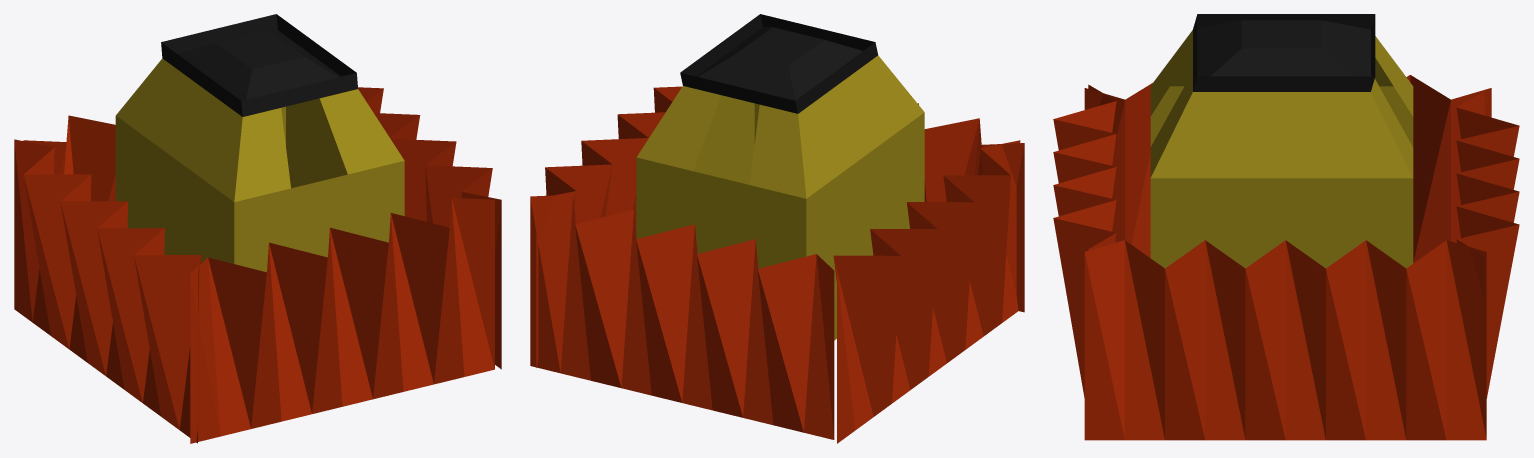
File: barrack1.obj
3 views of the same model, side by side, from view 1: azimuth 30°, elevation 25°; view 2: azimuth 150°, elevation 25°; view 3: azimuth 270°, elevation 25° (orthographic). The views are drawn at different scales.
Parts seen in each view (by area): view 1: Cube_Cube.001, Plane, Plane.003, Plane.002, Plane.001; view 2: Cube_Cube.001, Plane.001, Plane.003, Plane.002, Plane; view 3: Plane.002, Cube_Cube.001, Plane.003, Plane.001, Plane.
Part boxes in pixels (x1,y1,x2,y2): Cube_Cube.001: (115, 14, 404, 272); Plane: (190, 198, 494, 443); Plane.003: (14, 139, 201, 443); Plane.002: (358, 87, 501, 369); Plane.001: (23, 115, 115, 201); Cube_Cube.001: (636, 14, 924, 340); Plane.001: (530, 194, 834, 439); Plane.003: (833, 140, 1020, 443); Plane.002: (536, 86, 681, 367); Plane: (918, 103, 1024, 312); Plane.002: (1084, 240, 1486, 440); Cube_Cube.001: (1150, 14, 1413, 268); Plane.003: (1084, 75, 1491, 263); Plane.001: (1456, 91, 1519, 398); Plane: (1053, 84, 1116, 397).
Bounding box in the file's own units: 12.4 × 9.64 × 12.6.
